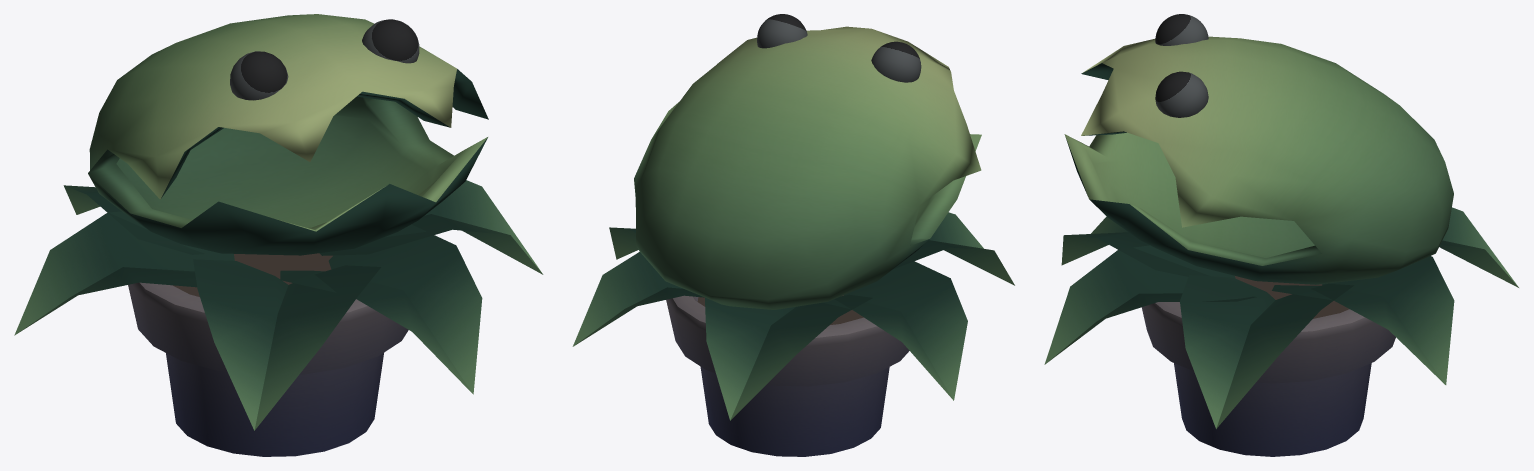
Rendered from Trap_Charm.fbx.
The picture shows the model from 3 angles, left to right: view 1: azimuth 30°, elevation 25°; view 2: azimuth 150°, elevation 25°; view 3: azimuth 270°, elevation 25°; orthographic projection. The views are drawn at different scales.
Parts seen in each view (by area): view 1: Trap_Charm_Jeffrey; view 2: Trap_Charm_Jeffrey; view 3: Trap_Charm_Jeffrey.
Boxes of the visible parts, left/top/right/bottom form: Trap_Charm_Jeffrey: left=14, top=14, right=543, bottom=456; Trap_Charm_Jeffrey: left=572, top=14, right=1014, bottom=456; Trap_Charm_Jeffrey: left=1044, top=14, right=1518, bottom=456.
Bounding box in the file's own units: 2.74 × 2.36 × 2.72.
